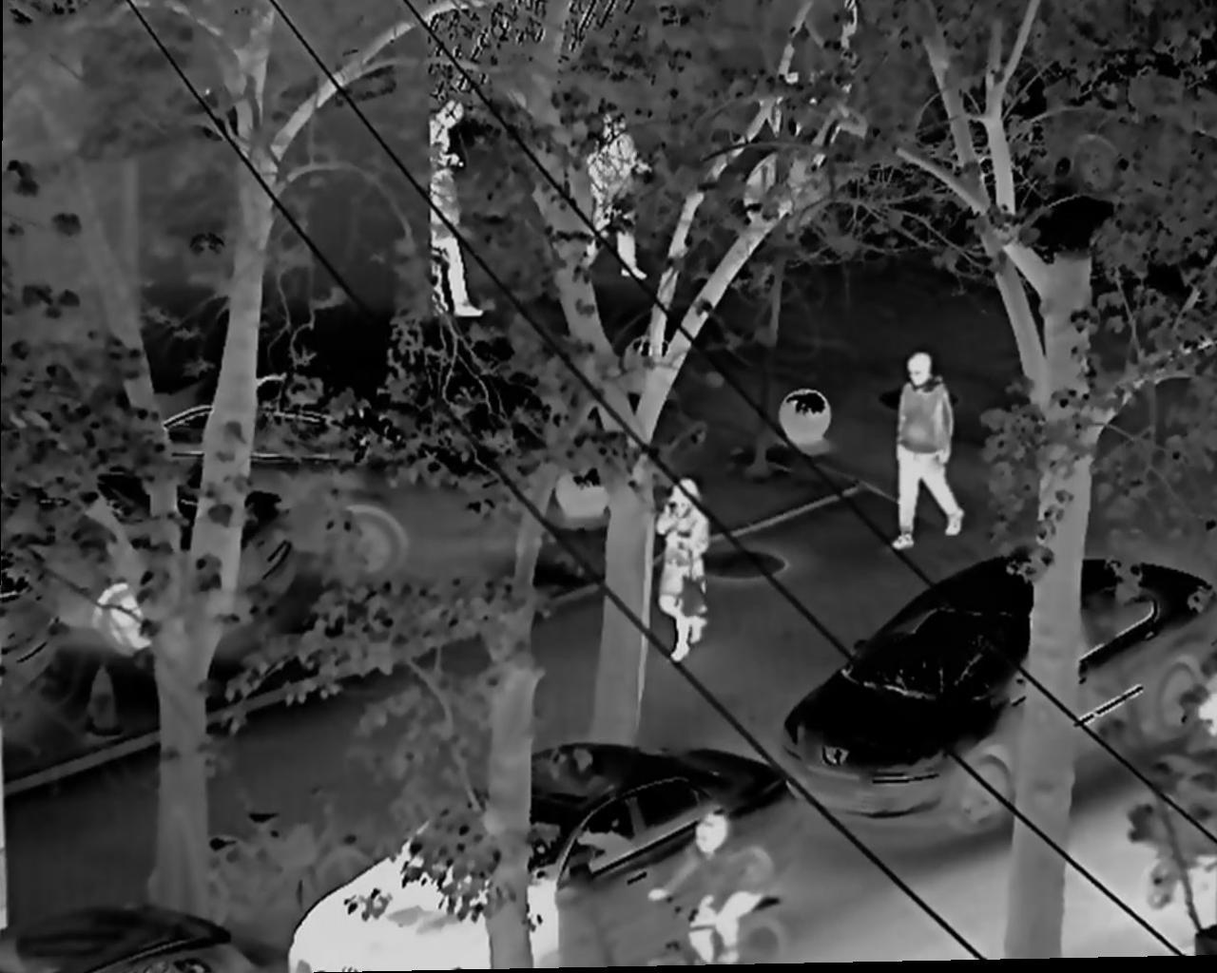person: (650, 808, 767, 965), (889, 352, 962, 550), (657, 477, 709, 664), (429, 141, 483, 320), (585, 137, 647, 277)
